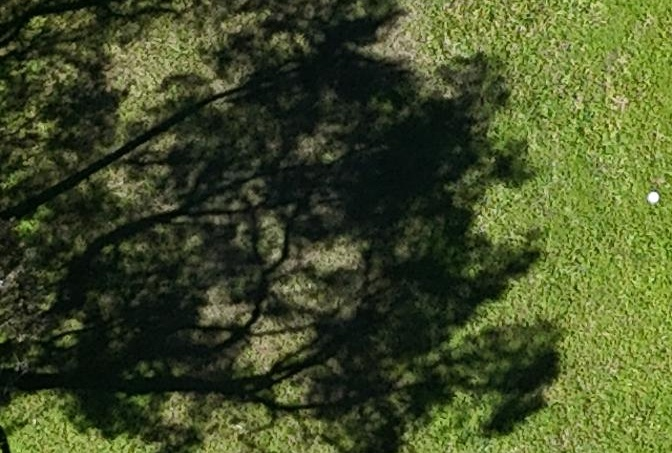bowl: (647, 191, 660, 204)
